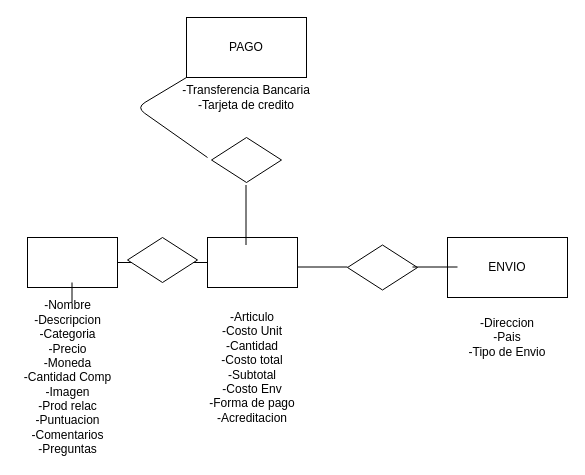
Some shapes in this 585 by 475 pixel diagram are drawn without their labels. The box of each missing label's shape, as (x1, y1, x2, y2) in pixels:
ARTICULO: (26, 236, 118, 288)
COMPRA: (206, 236, 298, 288)
